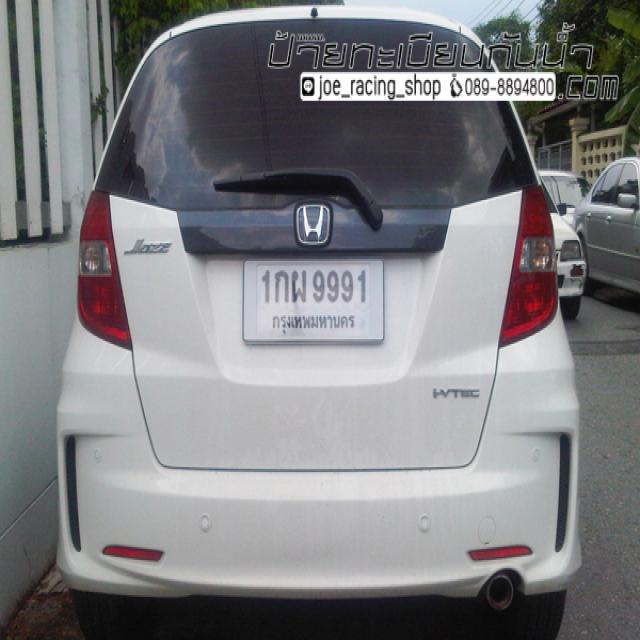license_plate: (242, 256, 386, 347)
